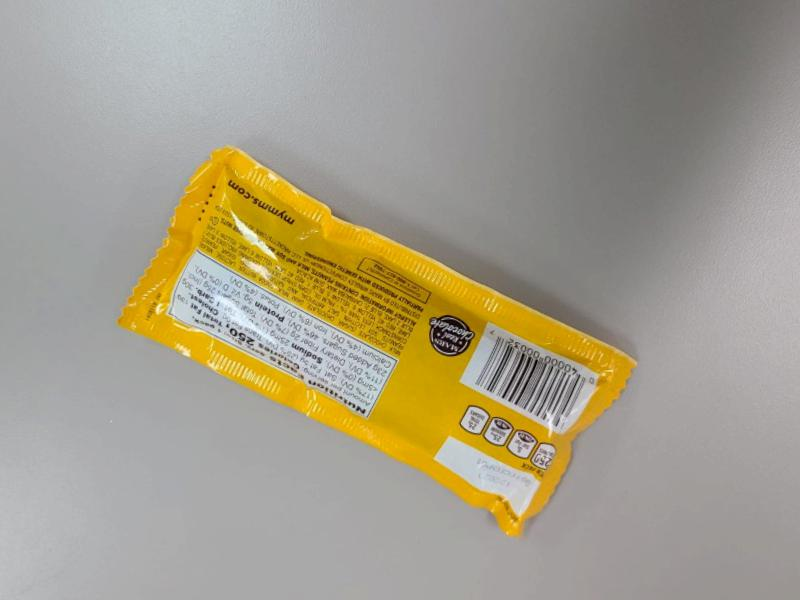m&m: (81, 261, 631, 584)
